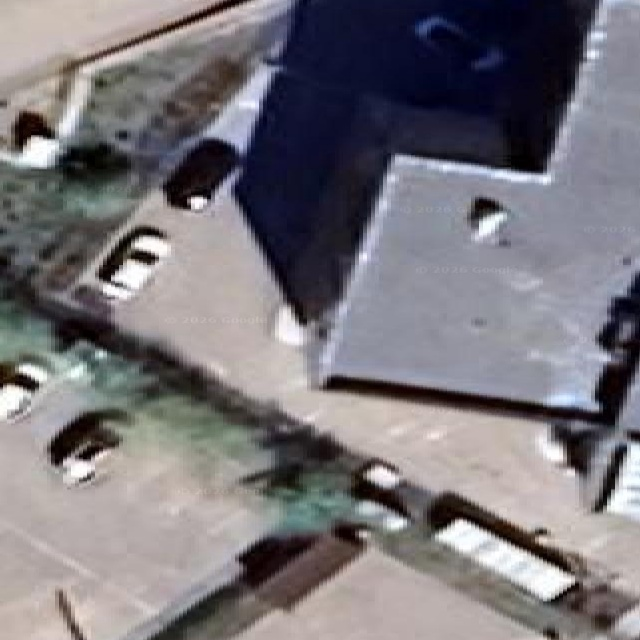car: (163, 139, 239, 211), (96, 227, 169, 299), (48, 412, 120, 484), (351, 459, 409, 531), (0, 360, 48, 420)
